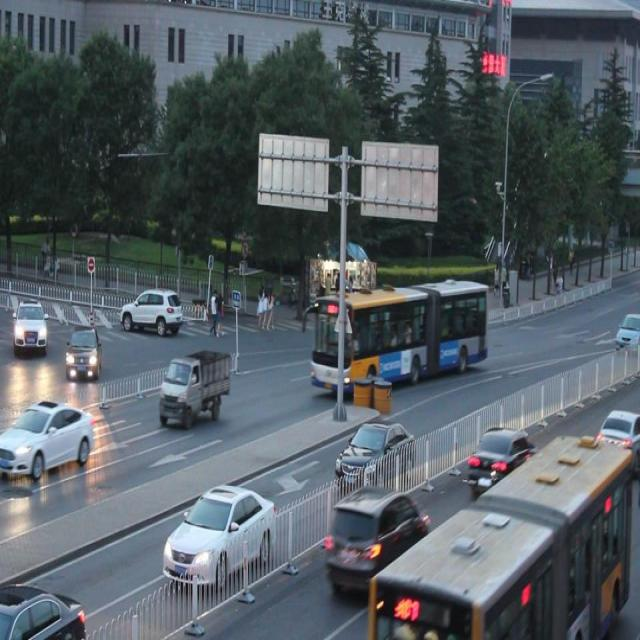bus: (158, 351, 229, 426)
car: (162, 484, 275, 586), (328, 488, 428, 594), (1, 397, 95, 480), (335, 416, 415, 486), (0, 580, 86, 640), (467, 428, 533, 493), (590, 407, 640, 475), (124, 288, 180, 334), (64, 325, 101, 378), (14, 299, 46, 350), (614, 310, 640, 349)
van: (364, 426, 630, 640), (313, 284, 484, 392)
